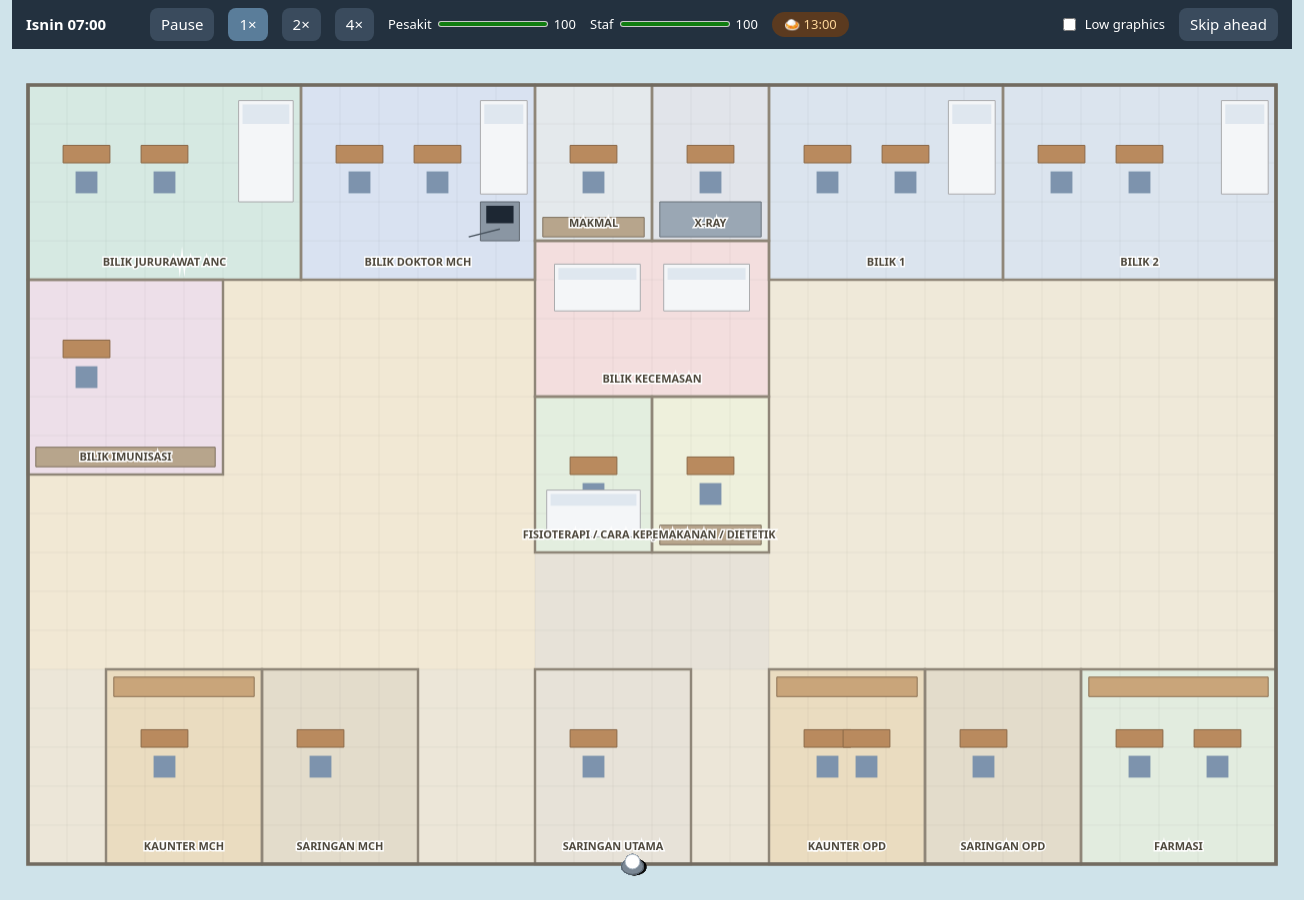
Scenario: low graphics toggle survives a localStorage that throws
The width and height of the screenshot is (1304, 900).
Click the checkbox labelled "Low graphics" at (1069, 24), box [1063, 18, 1076, 31]
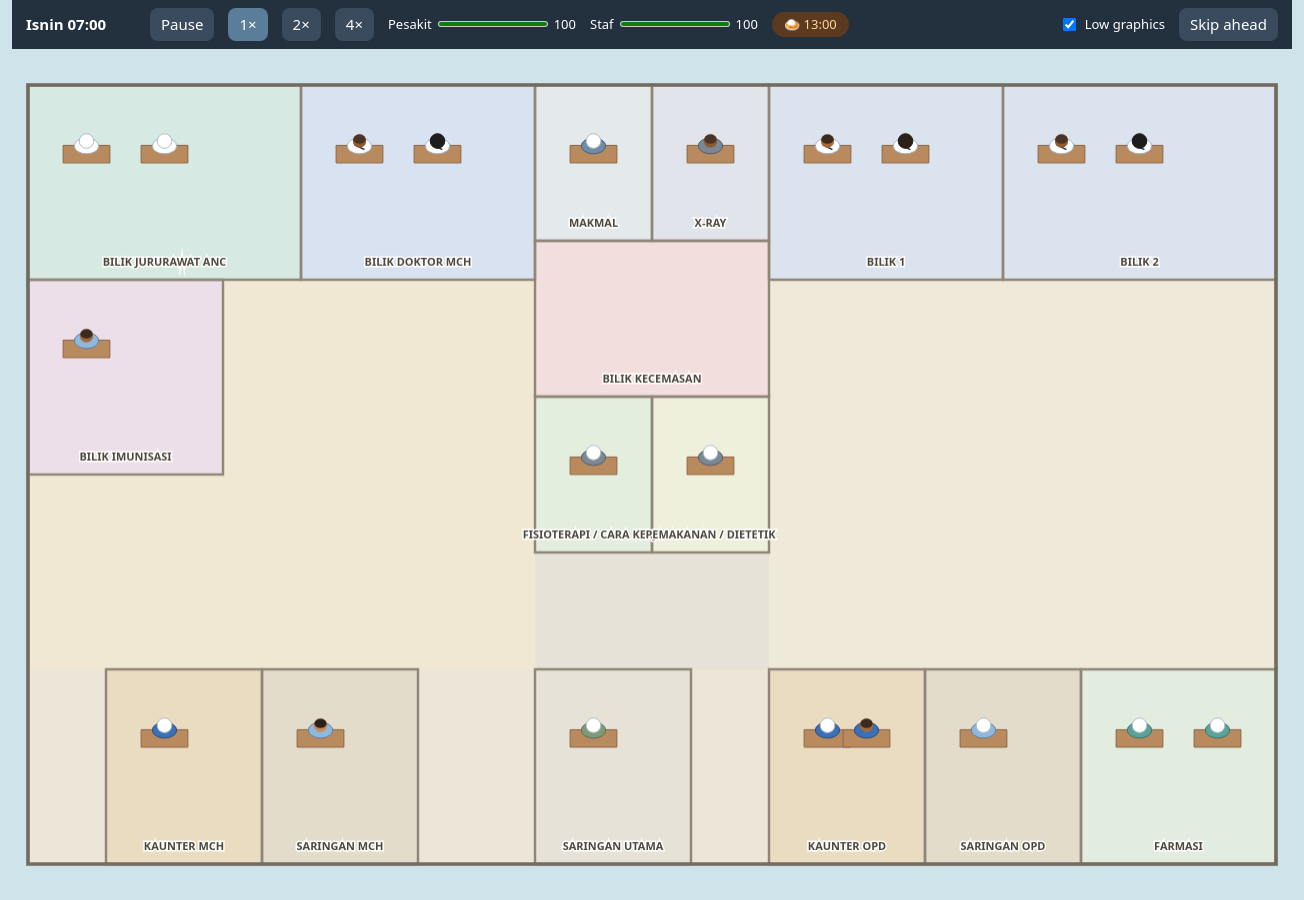
Expected: the checkbox labelled "Low graphics" is checked, [1063, 18, 1076, 31]
